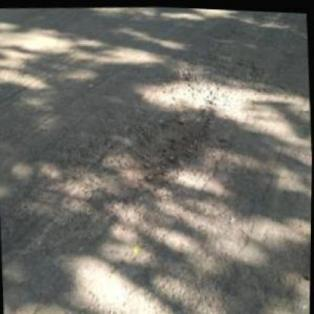Hueco: (113, 100, 220, 192)
